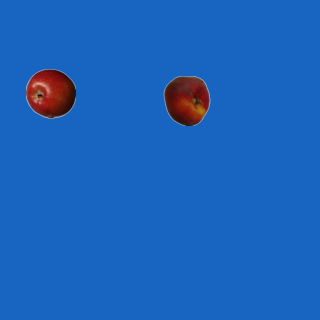Apple Braeburn: (25, 68, 75, 118)
Nectarine Flat: (161, 75, 211, 125)
